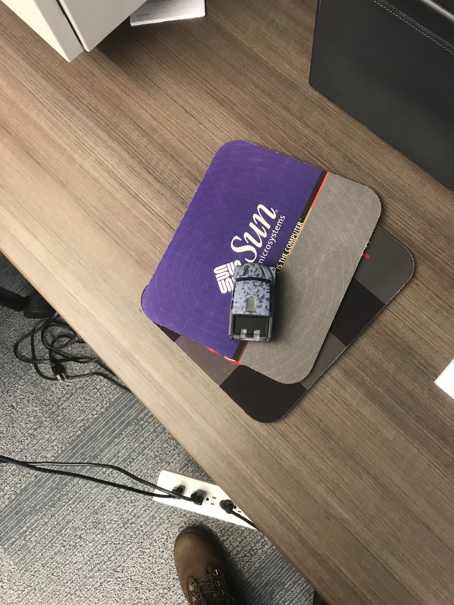MXT: (227, 261, 279, 344)
